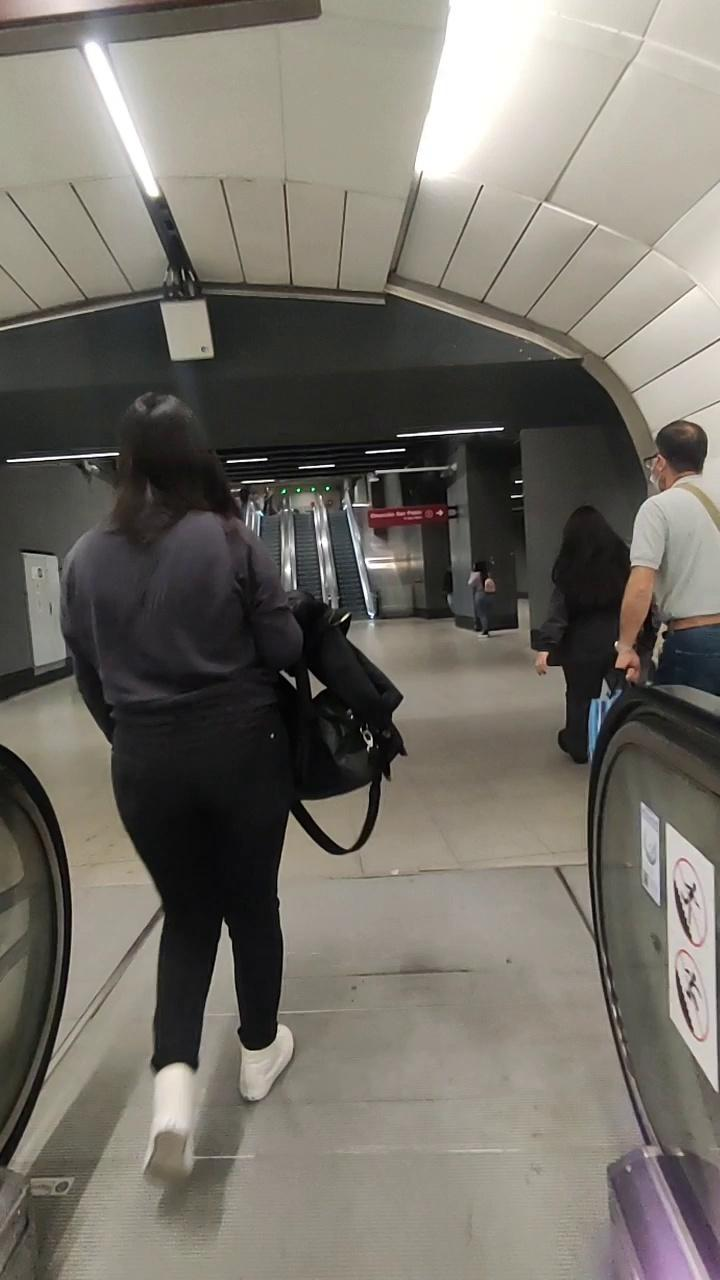right arrow: (436, 509, 444, 518)
